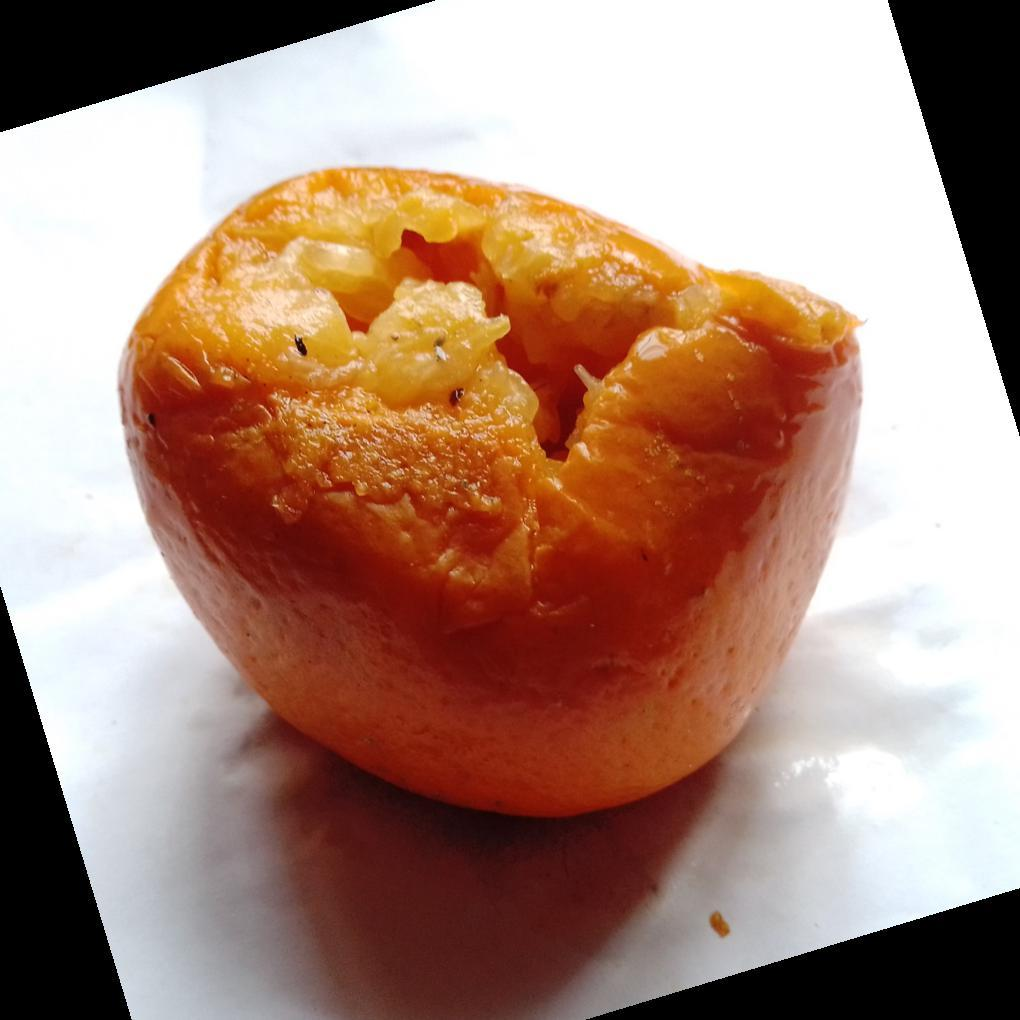FreshOrange: (116, 167, 866, 824)
